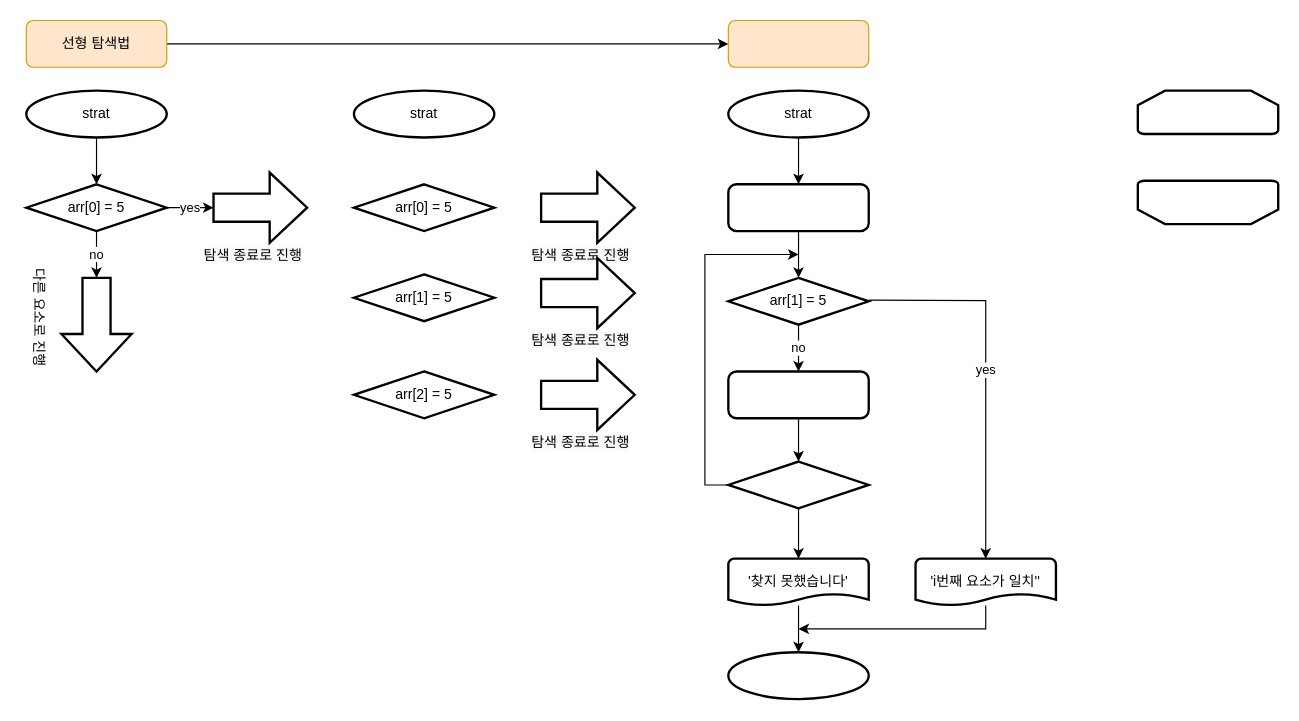
The diagram is 1299 pixels wide and 721 high, and some of its shapes have lost their labels. Here are the shapes that lost their labels. From the top down, the centre of each, then its label:
At (798,43): "반복구조".
At (798,207): "0 -> i".
At (798,394): "i = i + 1".
At (798,484): "i < len(arr)".
At (798,675): "end".
